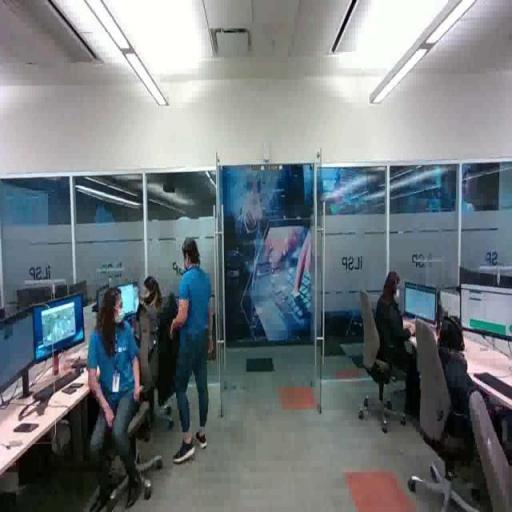person: (169, 237, 214, 472)
